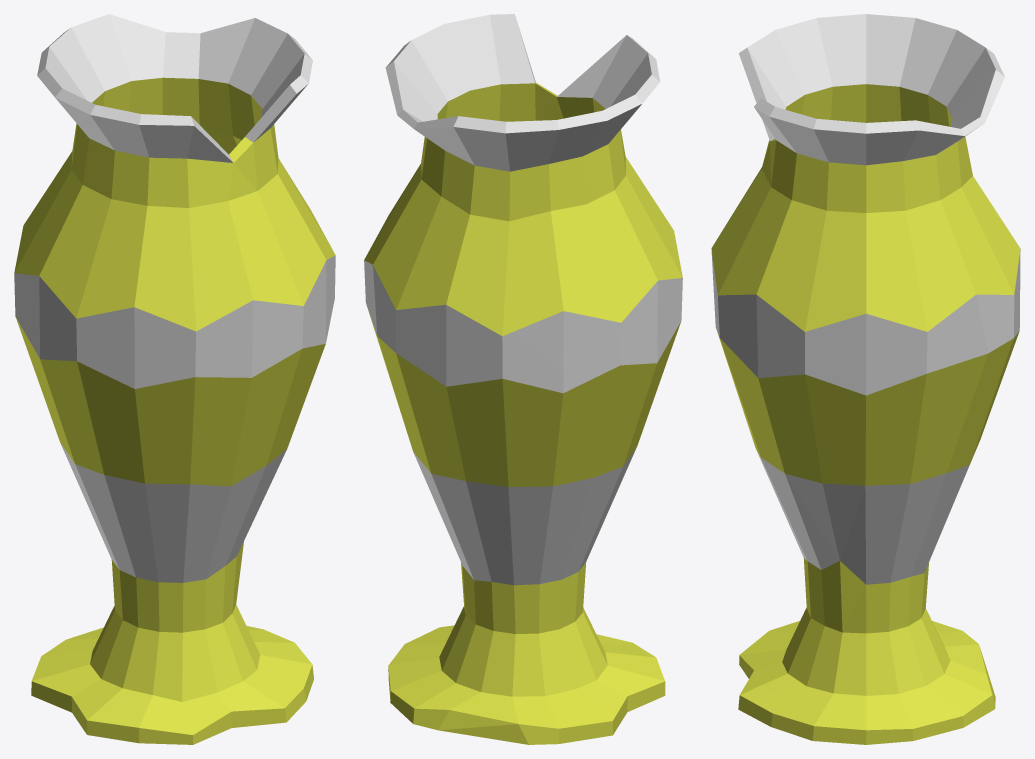
File: Vase_M_2.fbx
3 renders of one model, left to right at view 1: azimuth 30°, elevation 25°; view 2: azimuth 150°, elevation 25°; view 3: azimuth 270°, elevation 25°, orthographic.
Parts seen in each view (by area): view 1: Vase_M_2; view 2: Vase_M_2; view 3: Vase_M_2.
Boxes of the visible parts, x1=… form: Vase_M_2: x1=14, y1=14, x2=335, y2=744; Vase_M_2: x1=364, y1=14, x2=682, y2=744; Vase_M_2: x1=711, y1=14, x2=1020, y2=744.
Bounding box in the file's own units: 0.1641 × 0.3614 × 0.1637.
